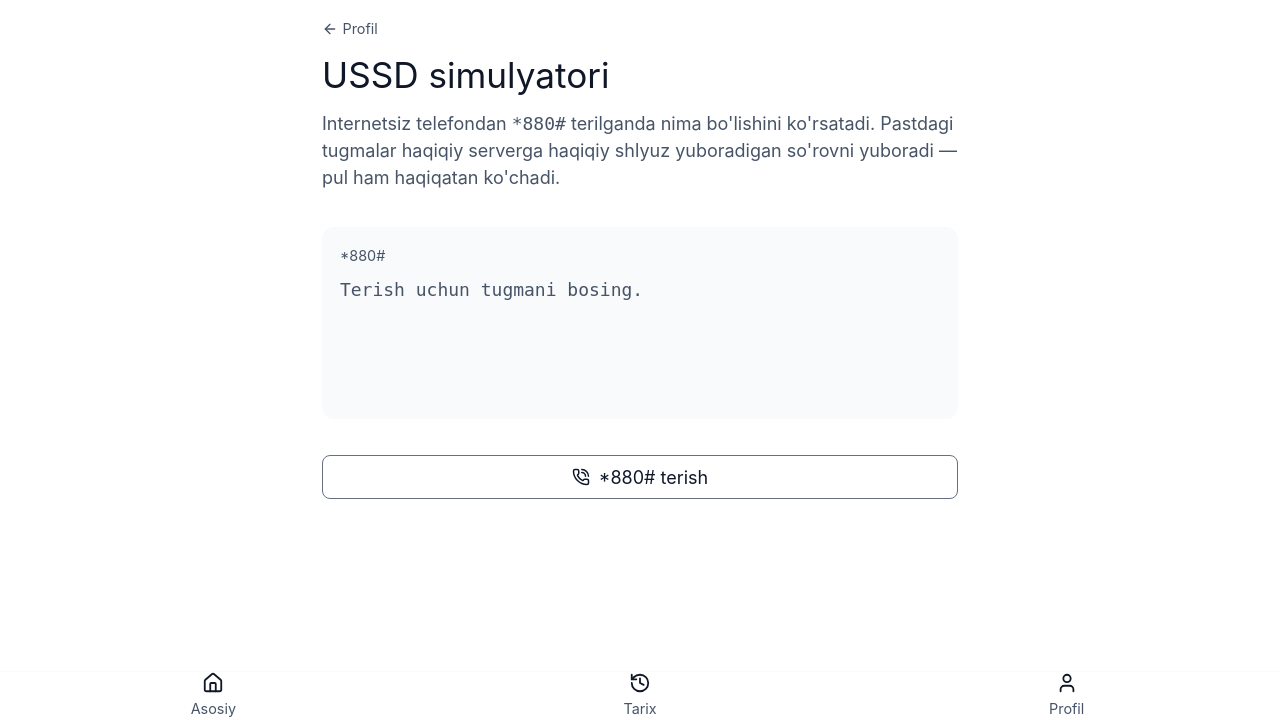
Scenario: what it refuses to show as a reply › refuses to render a body that is not a USSD reply
Click the button "*880# terish" at (640,477), box [322, 455, 958, 499]
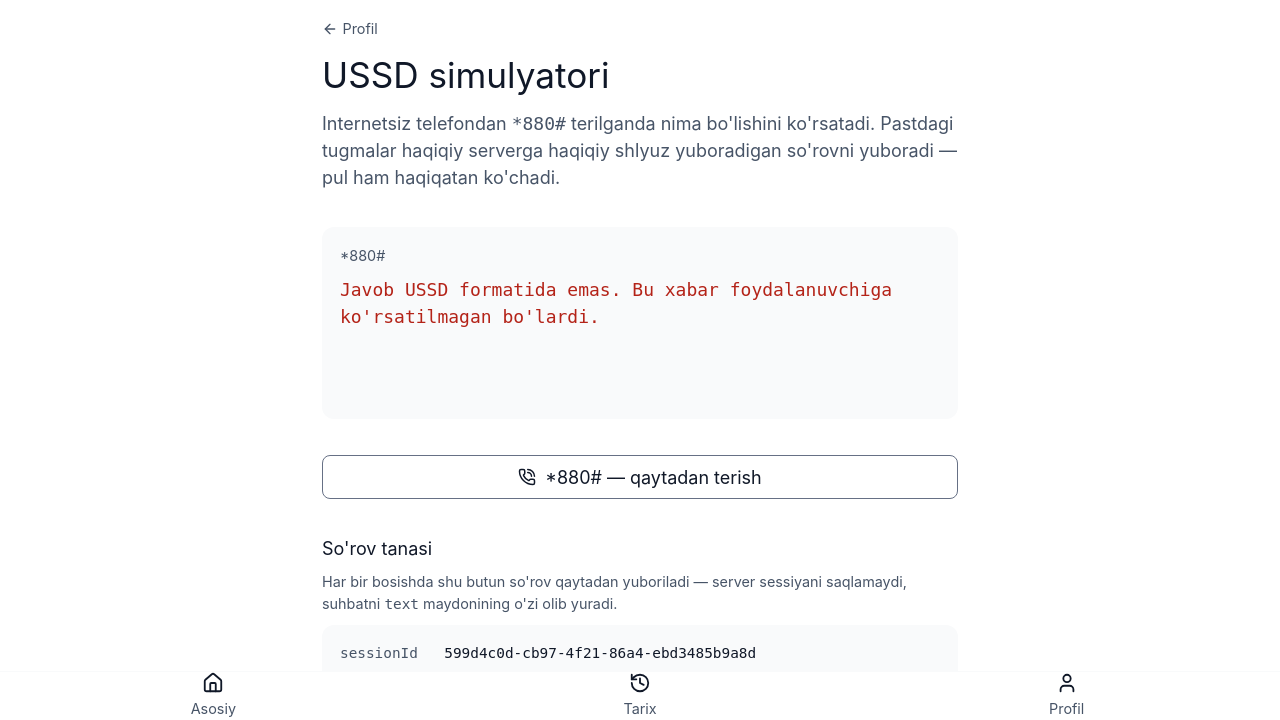
Expected: the text "USSD formatida emas" is shown, [340, 279, 903, 327]
